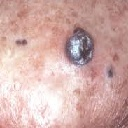Carcinoma: (63, 24, 95, 66)
